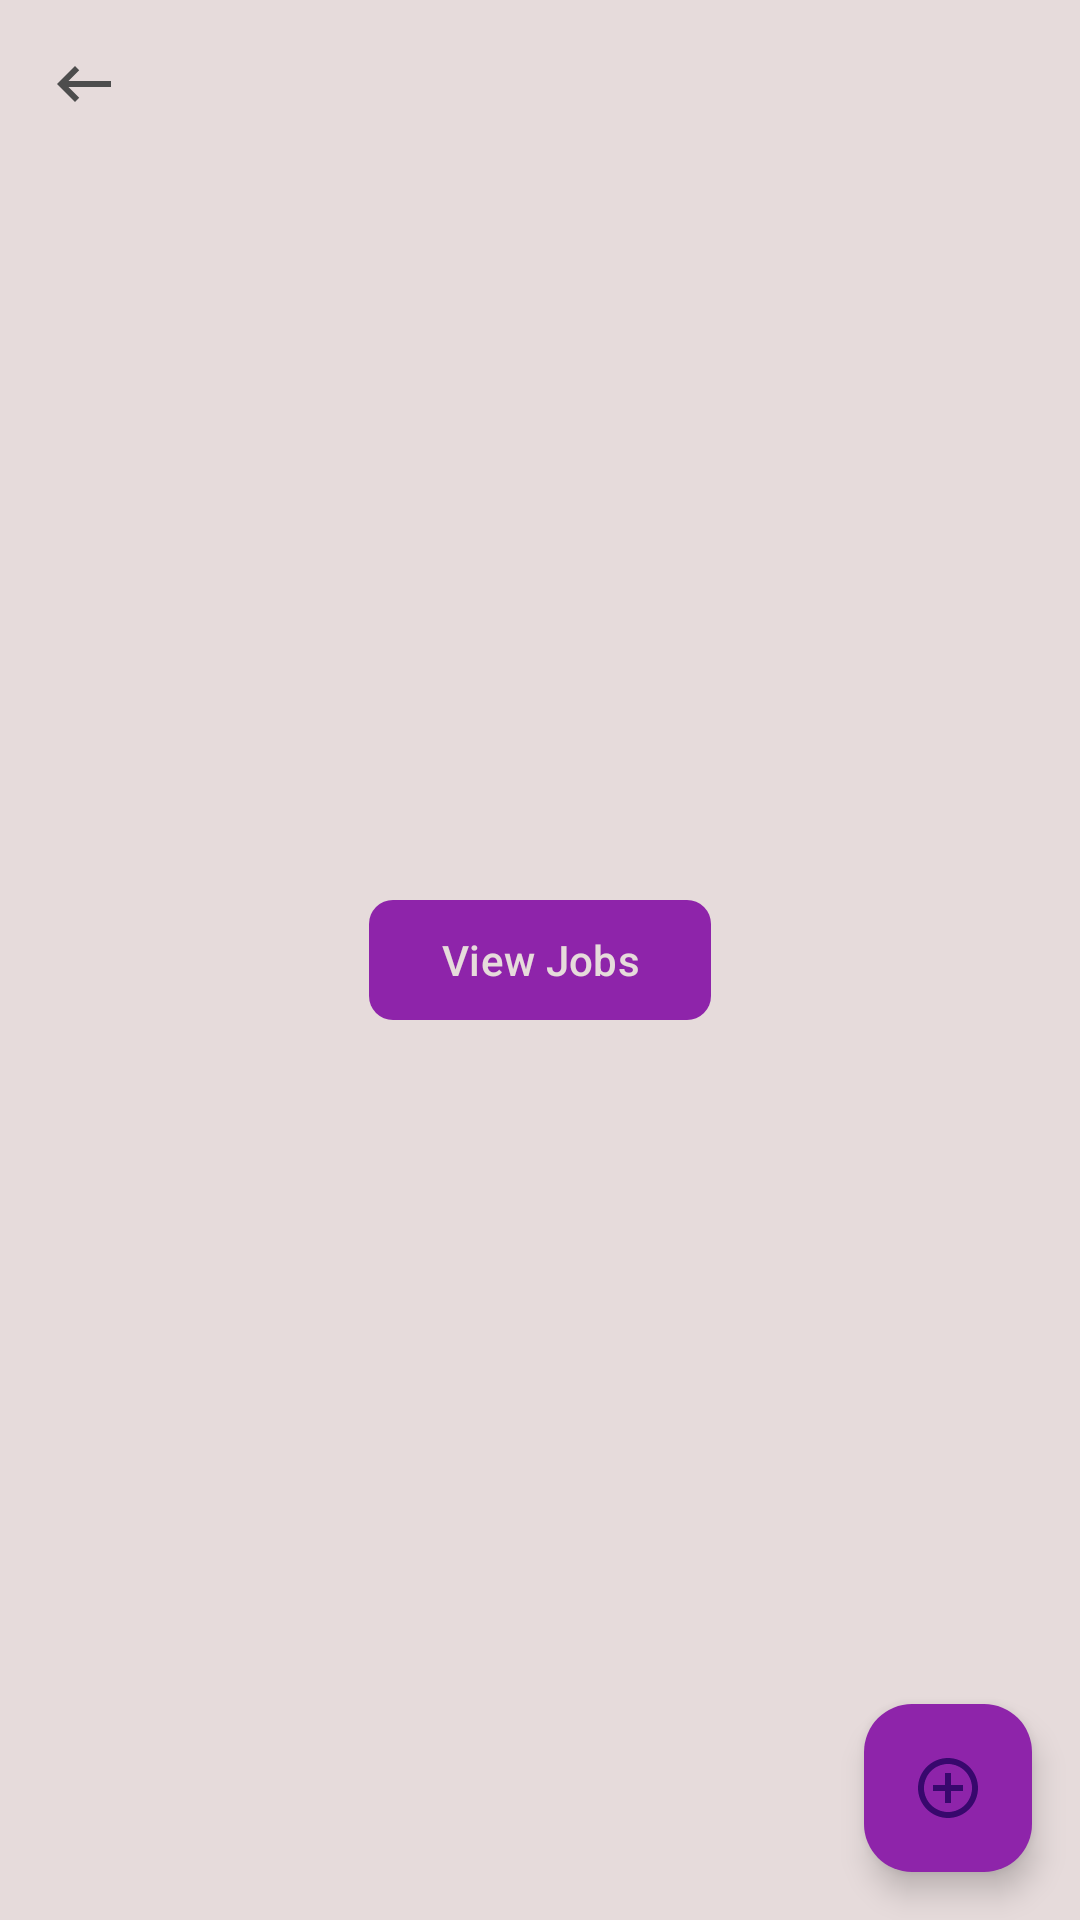

Icons on this 1080w x 1920h Android screen, each with its box as box(x1, y1, x2, y2):
Add New Job: box(864, 1704, 1032, 1872)
backarrow: box(57, 66, 111, 102)
